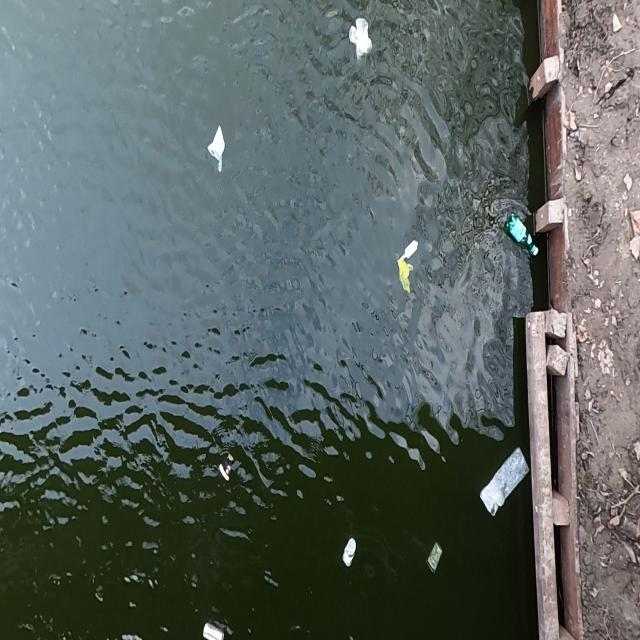Bouteille plastique: (501, 214, 541, 264)
Non plastique: (201, 614, 229, 640)
Sac plastique: (475, 446, 528, 522), (205, 118, 229, 174), (347, 18, 376, 60)
